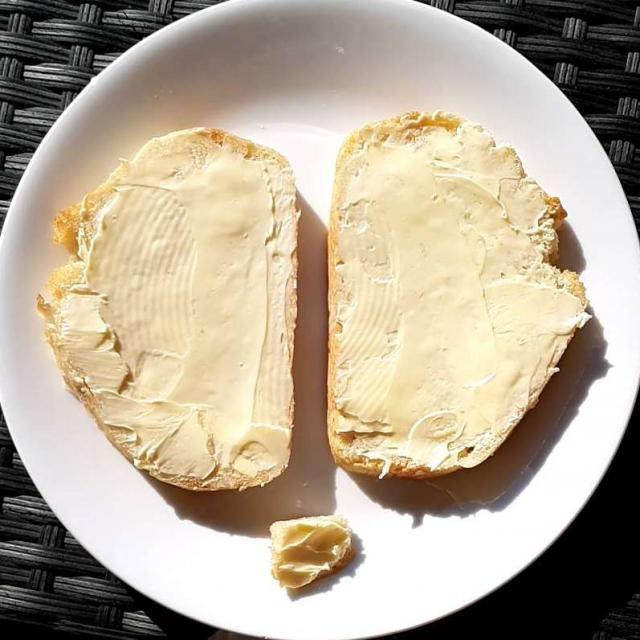bread: (43, 114, 582, 490)
butter: (58, 128, 563, 479)
